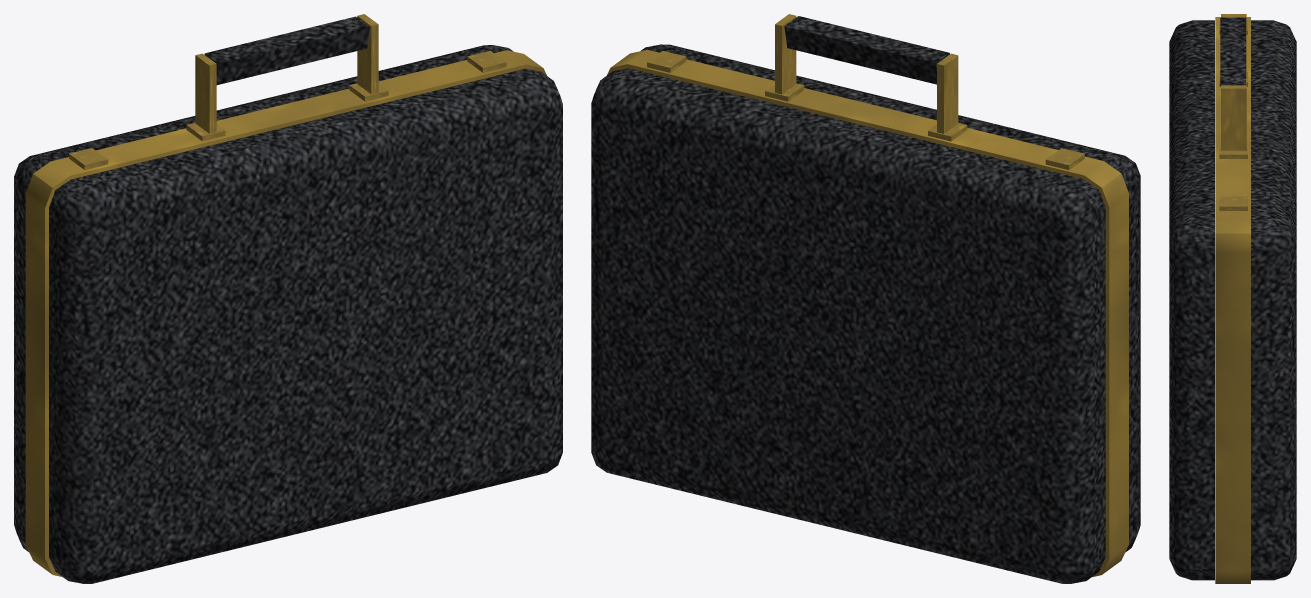
Rendered from briefCase.fbx.
3 renders of one model, left to right at view 1: azimuth 30°, elevation 25°; view 2: azimuth 150°, elevation 25°; view 3: azimuth 270°, elevation 25°, orthographic. The views are drawn at different scales.
Visible parts, largest first — view 1: briefcase_part9, briefcase_part1, briefcase_part2, briefCase, briefcase_part3, briefcase_part4; view 2: briefcase_part2, briefcase_part1, briefcase_part9, briefCase, briefcase_part3, briefcase_part4; view 3: briefcase_part9, briefcase_part2, briefcase_part1, briefCase, briefcase_part4, briefcase_part8, briefcase_part6.
Boxes of the visible parts, box(x1,y1,x2,y2) form: briefcase_part9: box(49, 69, 562, 583); briefcase_part1: box(25, 50, 546, 576); briefcase_part2: box(14, 45, 525, 558); briefCase: box(204, 16, 369, 84); briefcase_part3: box(195, 53, 216, 133); briefcase_part4: box(357, 14, 378, 94); briefcase_part2: box(591, 68, 1105, 583); briefcase_part1: box(607, 49, 1128, 576); briefcase_part9: box(641, 44, 1140, 552); briefCase: box(784, 16, 949, 84); briefcase_part3: box(937, 53, 958, 133); briefcase_part4: box(775, 14, 796, 94); briefcase_part9: box(1169, 20, 1214, 580); briefcase_part2: box(1251, 20, 1296, 580); briefcase_part1: box(1215, 17, 1250, 583); briefCase: box(1220, 17, 1245, 86); briefcase_part4: box(1221, 85, 1246, 150); briefcase_part8: box(1219, 196, 1247, 210); briefcase_part6: box(1219, 144, 1247, 158).
Bounding box in the file's own units: 0.4688 × 0.4214 × 0.1129.
